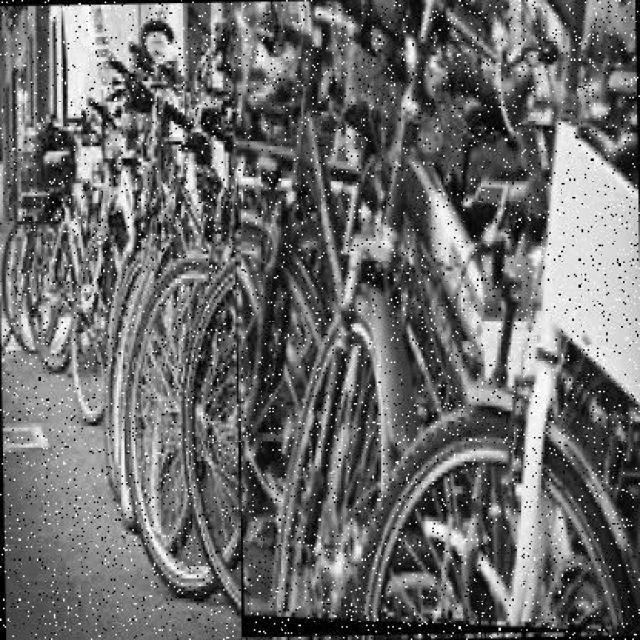bicycle: (228, 1, 639, 639)
